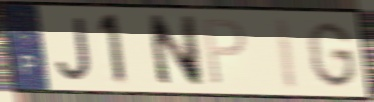1: (96, 12, 129, 88)
G: (304, 19, 360, 91)
I: (273, 16, 301, 92)
J: (54, 15, 94, 84)
N: (145, 12, 206, 89)
P: (201, 17, 249, 88)
